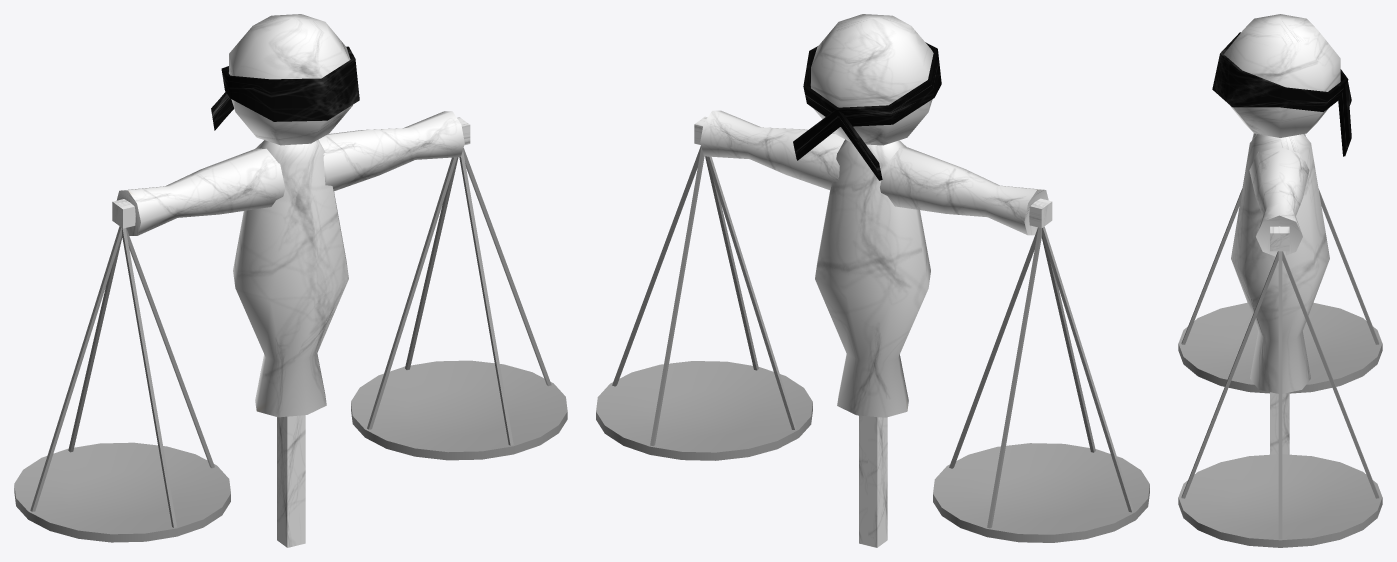
File: StrawPersonScale.fbx
3 views of the same model, side by side, from view 1: azimuth 30°, elevation 25°; view 2: azimuth 150°, elevation 25°; view 3: azimuth 270°, elevation 25° (orthographic). The views are drawn at different scales.
Parts seen in each view (by area): view 1: polySurface1, pCylinder4, pCylinder3, polySurface5; view 2: polySurface1, pCylinder4, pCylinder3, polySurface5; view 3: polySurface1, pCylinder3, pCylinder4, polySurface5.
Part boxes in pixels (left/top/right/bottom): polySurface1: left=211, top=14, right=359, bottom=547; pCylinder4: left=14, top=226, right=230, bottom=542; pCylinder3: left=351, top=148, right=567, bottom=460; polySurface5: left=112, top=111, right=470, bottom=235; polySurface1: left=793, top=14, right=941, bottom=547; pCylinder4: left=933, top=226, right=1149, bottom=542; pCylinder3: left=596, top=146, right=812, bottom=460; polySurface5: left=694, top=110, right=1052, bottom=235; polySurface1: left=1212, top=14, right=1351, bottom=454; pCylinder3: left=1178, top=251, right=1382, bottom=547; pCylinder4: left=1178, top=189, right=1382, bottom=393; polySurface5: left=1249, top=133, right=1309, bottom=256.
Bounding box in the file's own units: 3.34 × 3.18 × 1.2.
